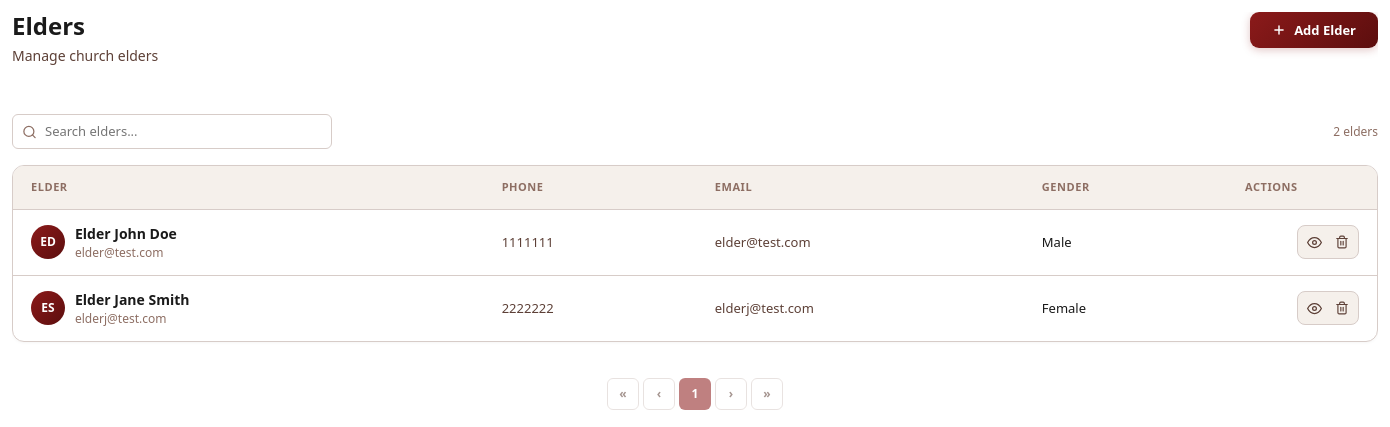
Test: Elders › search no match shows empty
Step 1. Type "zzz" into the field with placeholder "Search elders..." → (172, 132), box [12,114,332,149]
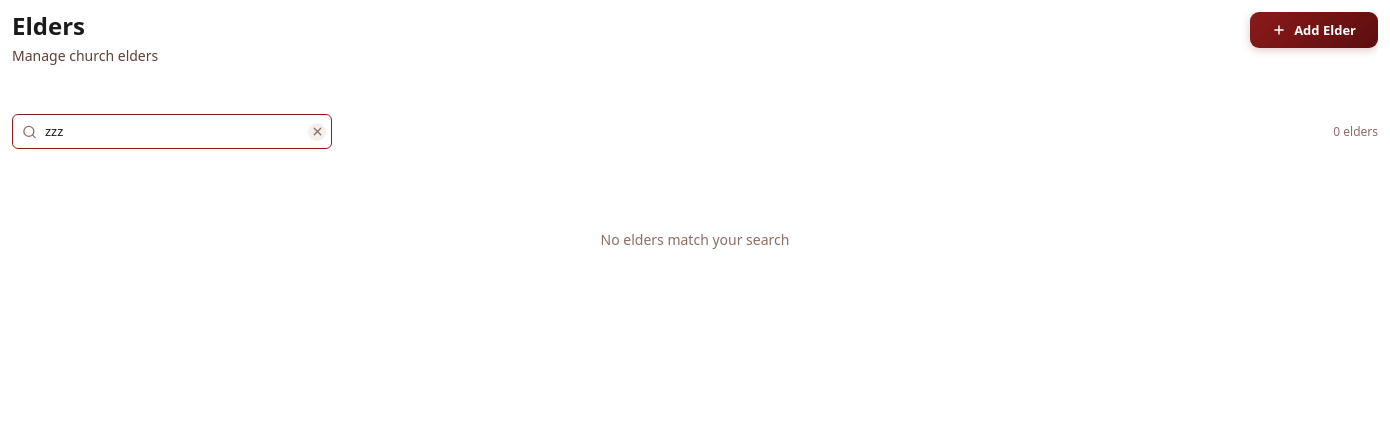
Expected: the text "No elders match your search" is shown, [600,230,789,249]
